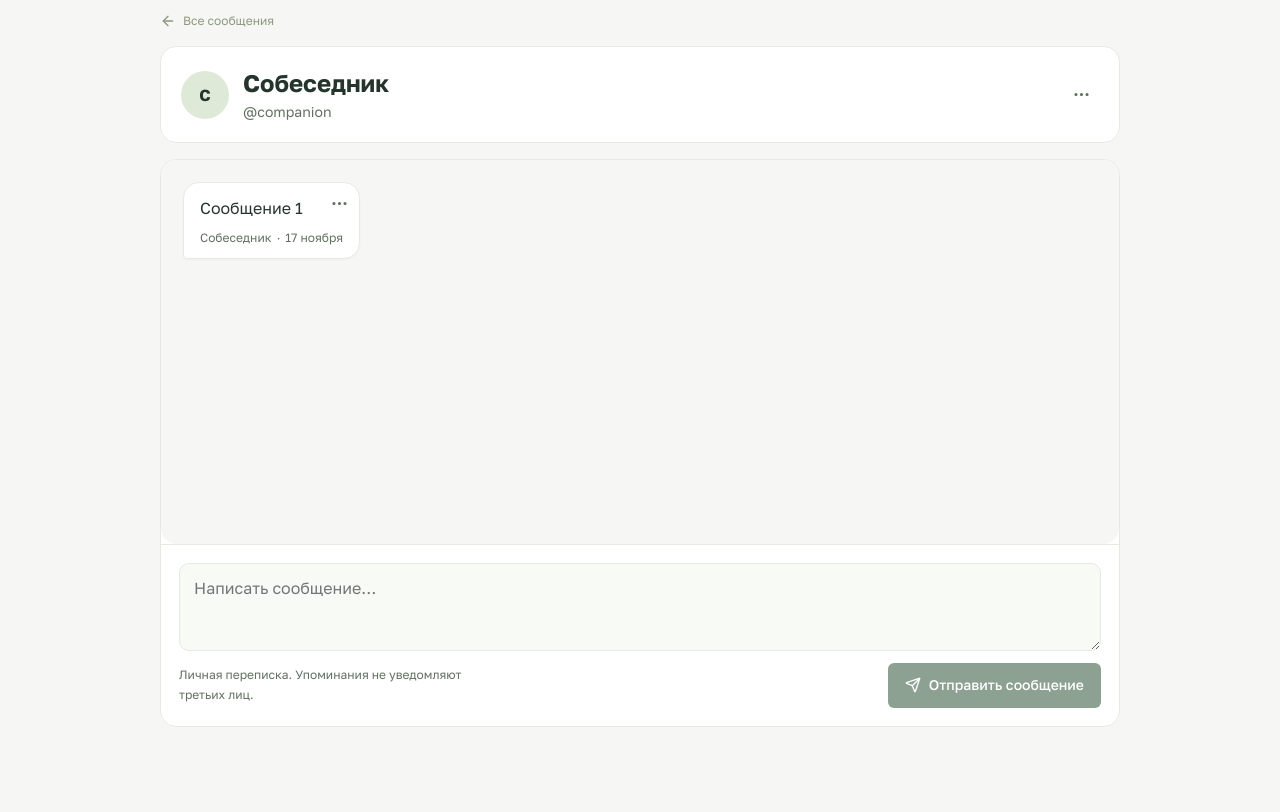
Scenario: a failed send retains the text and idempotency key and a retry shows one outgoing message
This screenshot has width=1280, height=812.
Later steps or results of the test are not shown.
Type "Подъеду к парку" into the text box named "Ваше сообщение" at [640, 607], box [179,563,1101,651]
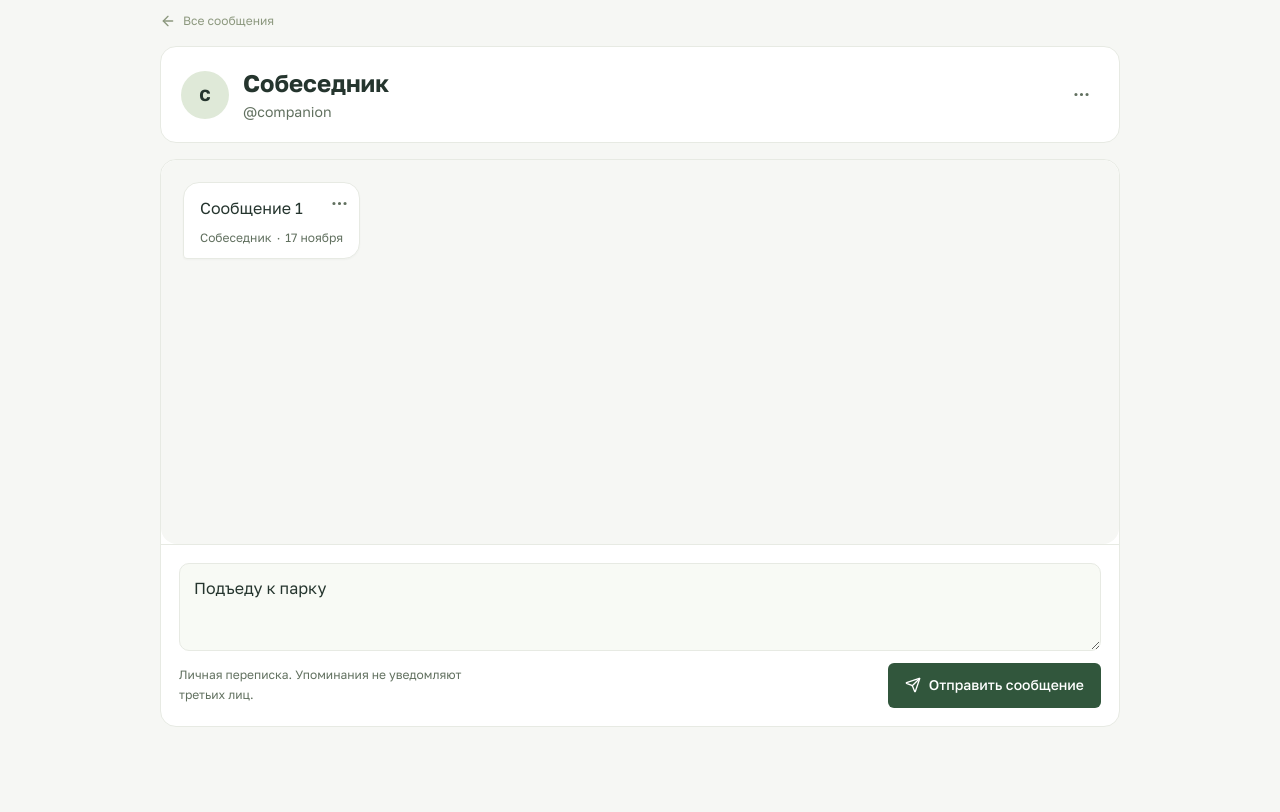
Click the button "Отправить сообщение" at [994, 685], box [888,663,1101,708]
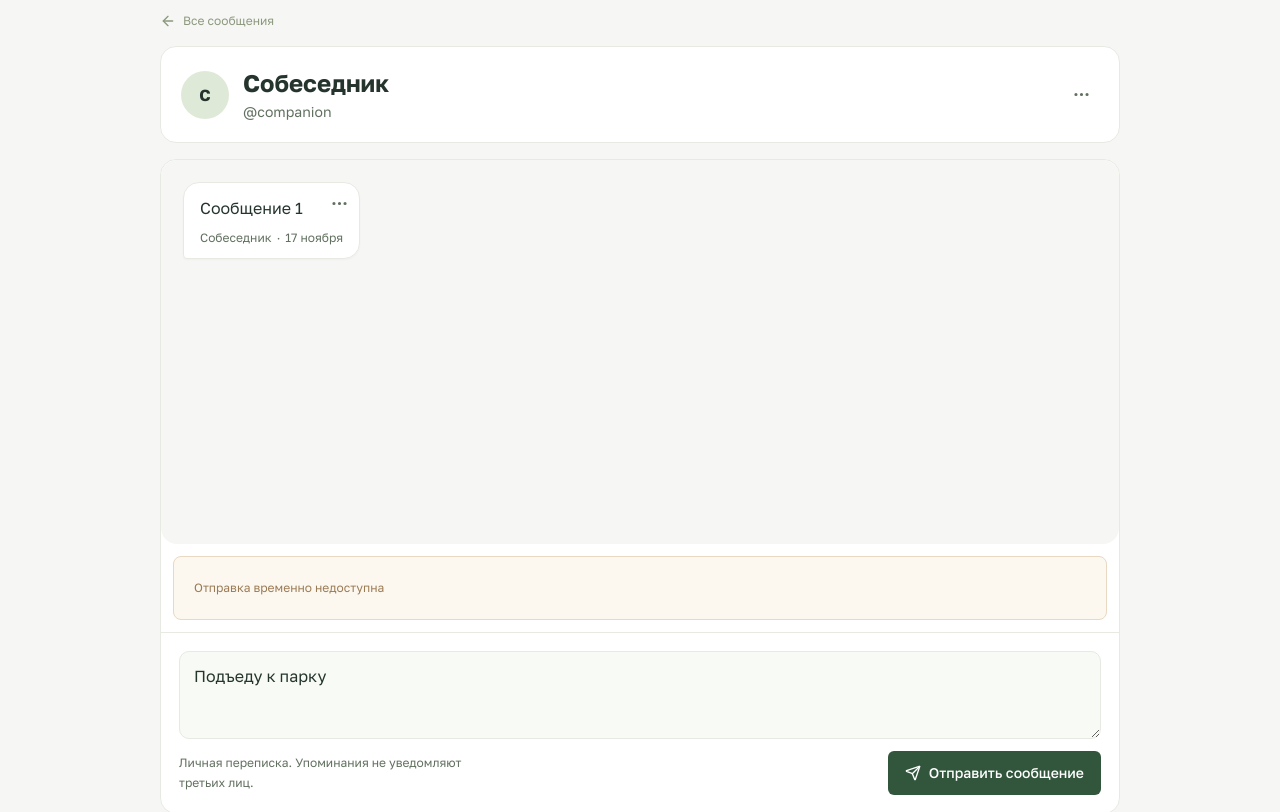
Expected: the text "Отправка временно недоступна" is shown, [194,580,384,595]
